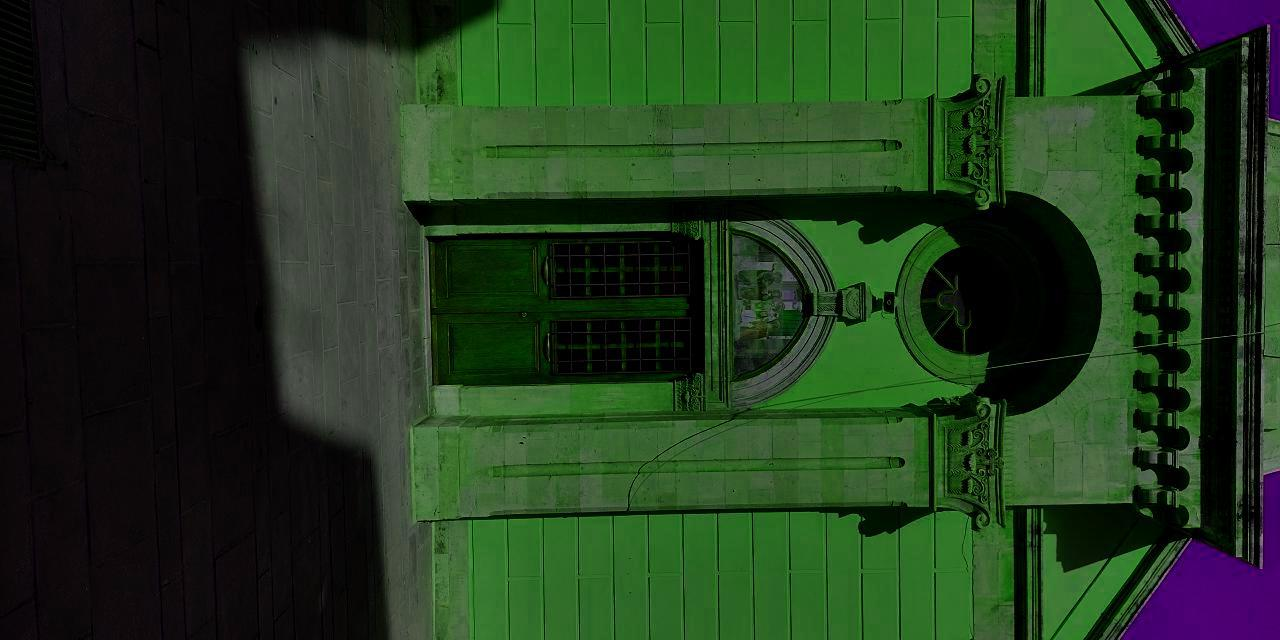Agios Minas: (704, 1, 1280, 640)
